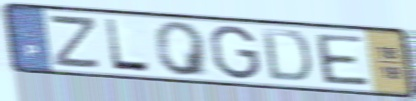D: (259, 26, 314, 85)
E: (312, 32, 372, 88)
G: (207, 23, 263, 81)
L: (102, 16, 154, 75)
Q: (152, 20, 213, 78)
Z: (48, 14, 103, 71)
